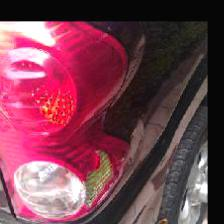tail_lamp: (67, 140, 116, 217)
